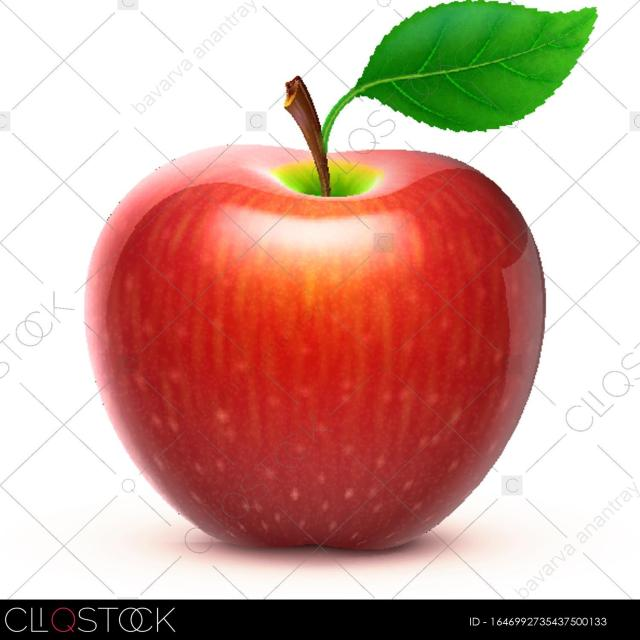apple: (82, 81, 544, 550)
